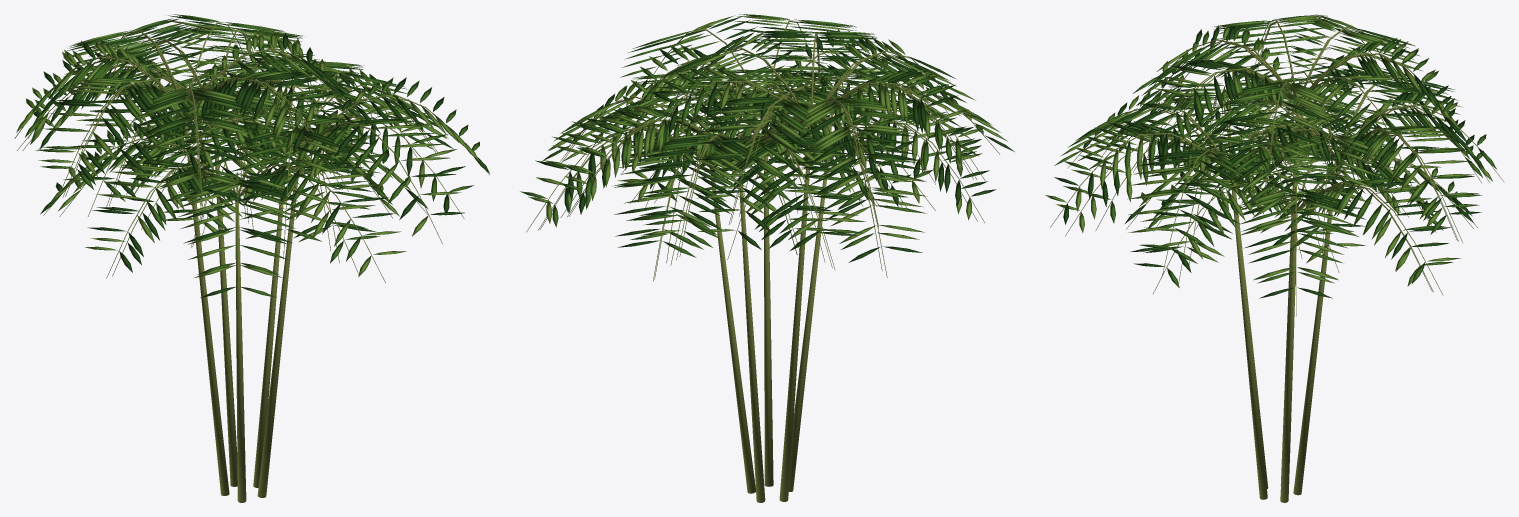
The model's file is MV_Palm_Areca_Free.fbx.
3 renders of one model, left to right at view 1: azimuth 30°, elevation 25°; view 2: azimuth 150°, elevation 25°; view 3: azimuth 270°, elevation 25°, orthographic. The views are drawn at different scales.
Visible parts, largest first — view 1: LOD0_Mesh, LOD1_Mesh, LOD2_Mesh; view 2: LOD0_Mesh, LOD1_Mesh, LOD2_Mesh; view 3: LOD0_Mesh, LOD1_Mesh, LOD2_Mesh.
Boxes of the visible parts, x1,y1,x2,y2 form: LOD0_Mesh: (25,14,489,502); LOD1_Mesh: (15,19,433,502); LOD2_Mesh: (14,25,446,495); LOD0_Mesh: (528,14,1014,502); LOD1_Mesh: (520,31,987,502); LOD2_Mesh: (537,30,985,502); LOD0_Mesh: (1045,15,1492,502); LOD1_Mesh: (1085,14,1482,502); LOD2_Mesh: (1133,15,1504,501).
Size of the model in its own units: 1.91 by 1.99 by 1.99.
